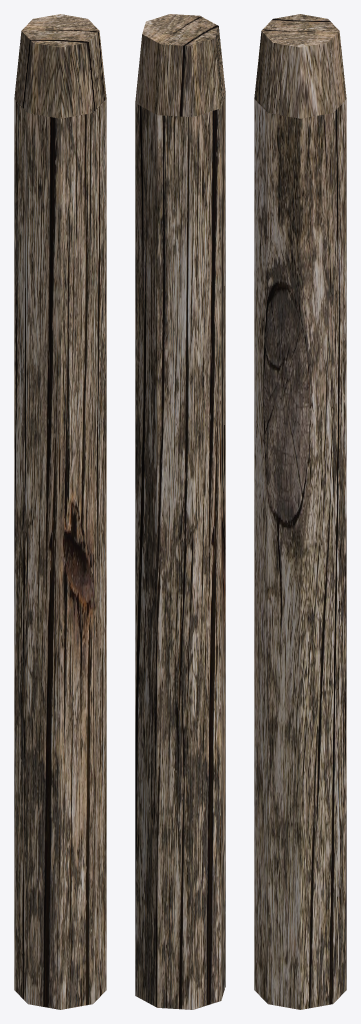
The model's file is pole.obj.
3 views of the same model, side by side, from view 1: azimuth 90°, elevation 25°; view 2: azimuth 150°, elevation 25°; view 3: azimuth 270°, elevation 25° (orthographic).
Parts seen in each view (by area): view 1: internal_part.001; view 2: internal_part.001; view 3: internal_part.001.
Part boxes in pixels (box(x1,y1,x2,y2)): internal_part.001: box(14, 14, 106, 1009); internal_part.001: box(135, 14, 225, 1009); internal_part.001: box(254, 14, 346, 1009).
Bounding box in the file's own units: 1.4 × 15.77 × 1.38.
Materials: 1 (1 with a texture image).
